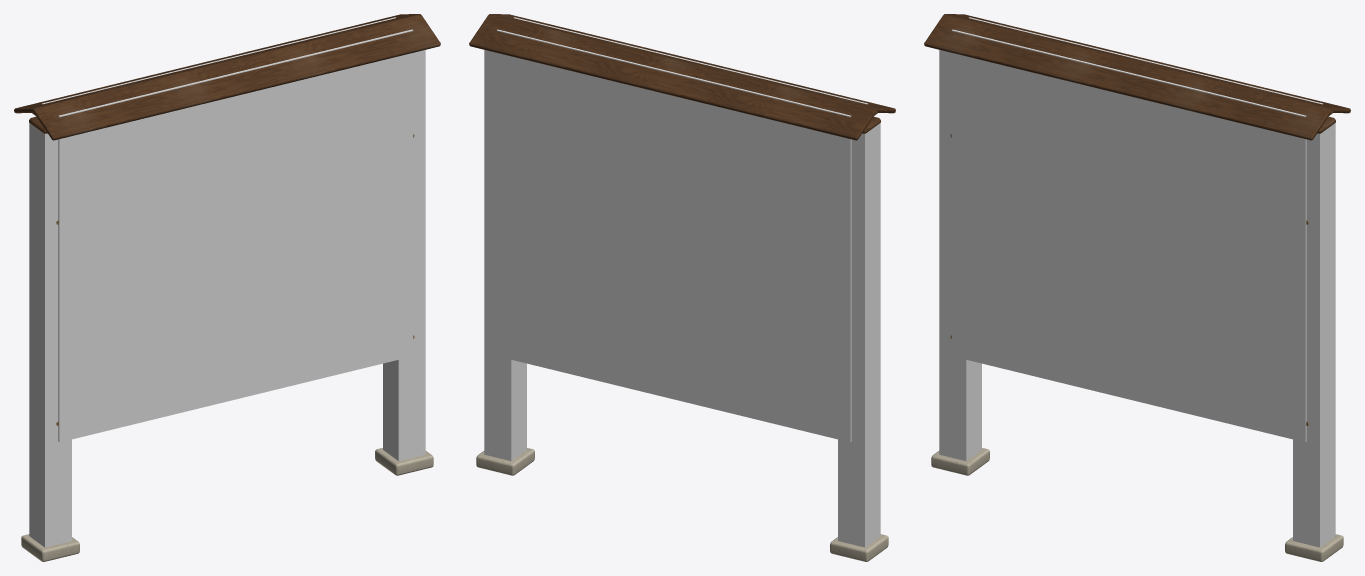
Rendered from request_board_woven.gltf.
The picture shows the model from 3 angles, left to right: view 1: azimuth 30°, elevation 25°; view 2: azimuth 150°, elevation 25°; view 3: azimuth 330°, elevation 25°; orthographic projection.
Parts seen in each view (by area): view 1: request_board_woven_col, request_board_woven_LOD0; view 2: request_board_woven_col, request_board_woven_LOD0; view 3: request_board_woven_col, request_board_woven_LOD0.
Part boxes in pixels (left/top/right/bottom): request_board_woven_col: left=29, top=17, right=425, bottom=547; request_board_woven_LOD0: left=14, top=14, right=440, bottom=561; request_board_woven_col: left=484, top=17, right=880, bottom=547; request_board_woven_LOD0: left=469, top=14, right=895, bottom=561; request_board_woven_col: left=939, top=17, right=1335, bottom=547; request_board_woven_LOD0: left=924, top=14, right=1350, bottom=561.
Size of what is drawn, in the model's own units: 2.04 by 2.22 by 0.3587.
Materials: 9 (5 with a texture image).
